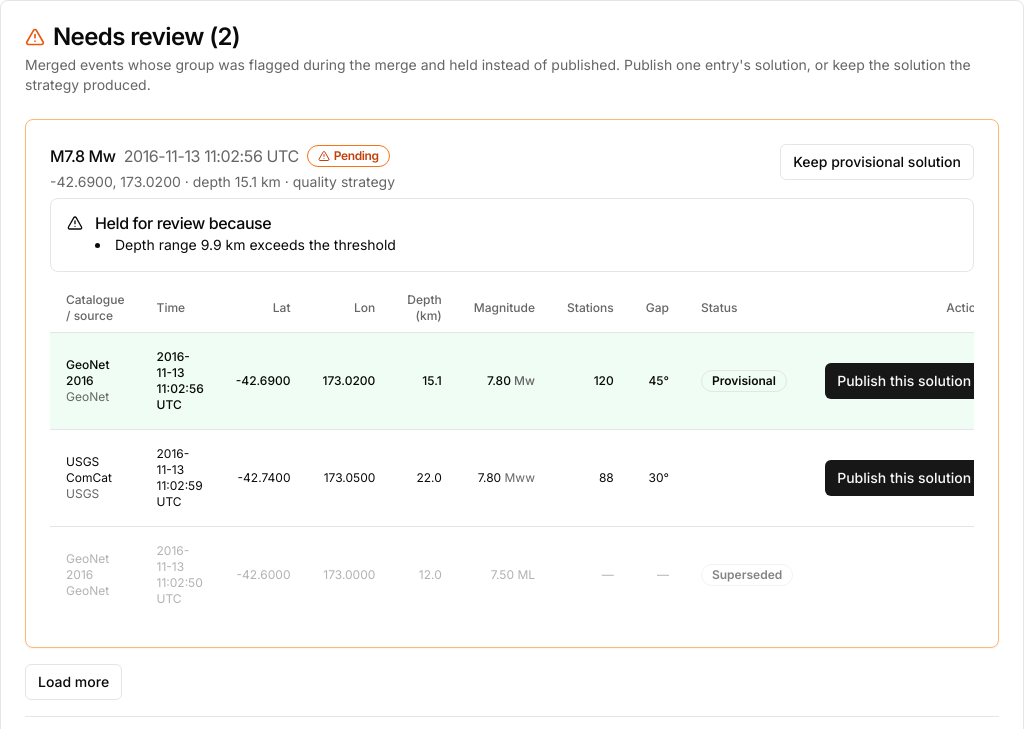
Test: listing › loads the next page through the cursor and appends it
The image size is (1024, 729).
Expected: the heading "Needs review (2)" is shown, [25,22,240,51]
Click the button "Load more" at (74, 682), box [25,664,122,700]
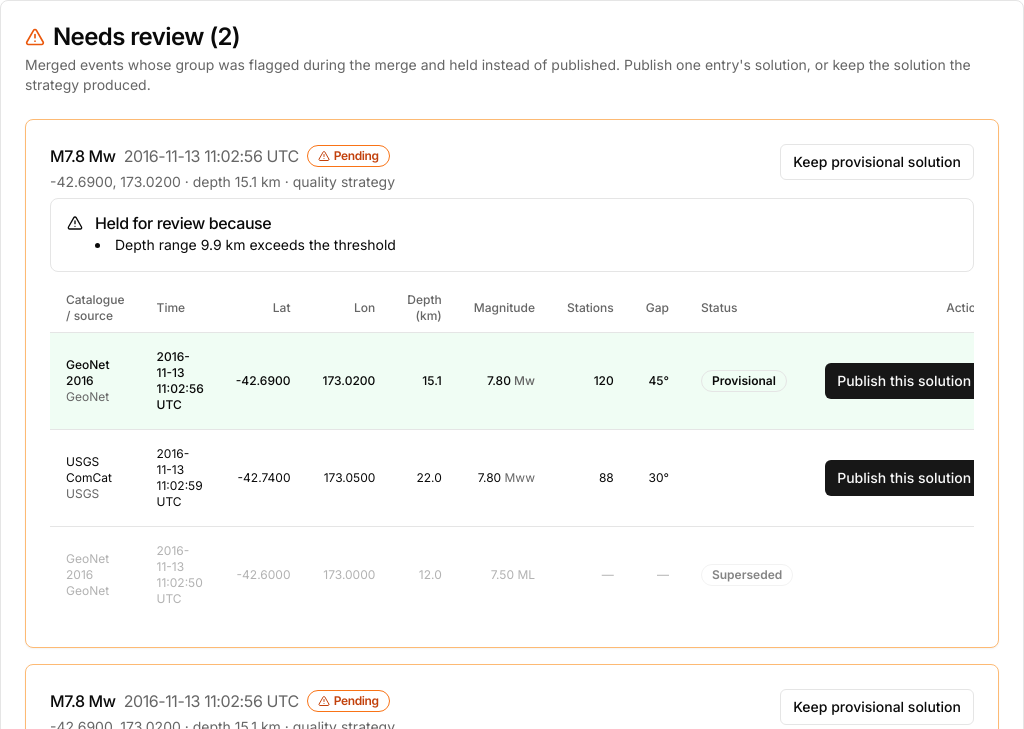
Expected: the button "Load more" is gone
